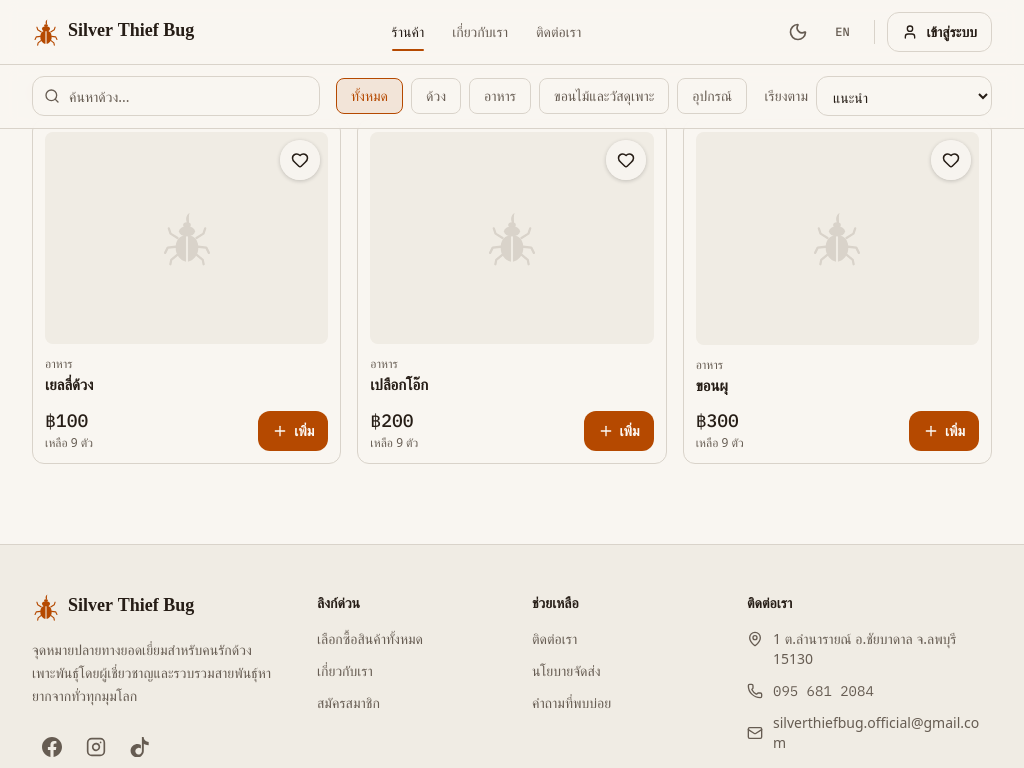
the product page lists every tier of its Promotion
(page scrolled)
Click the button "เยลลี่ด้วง" at [69, 385], box [45,374,94,395]
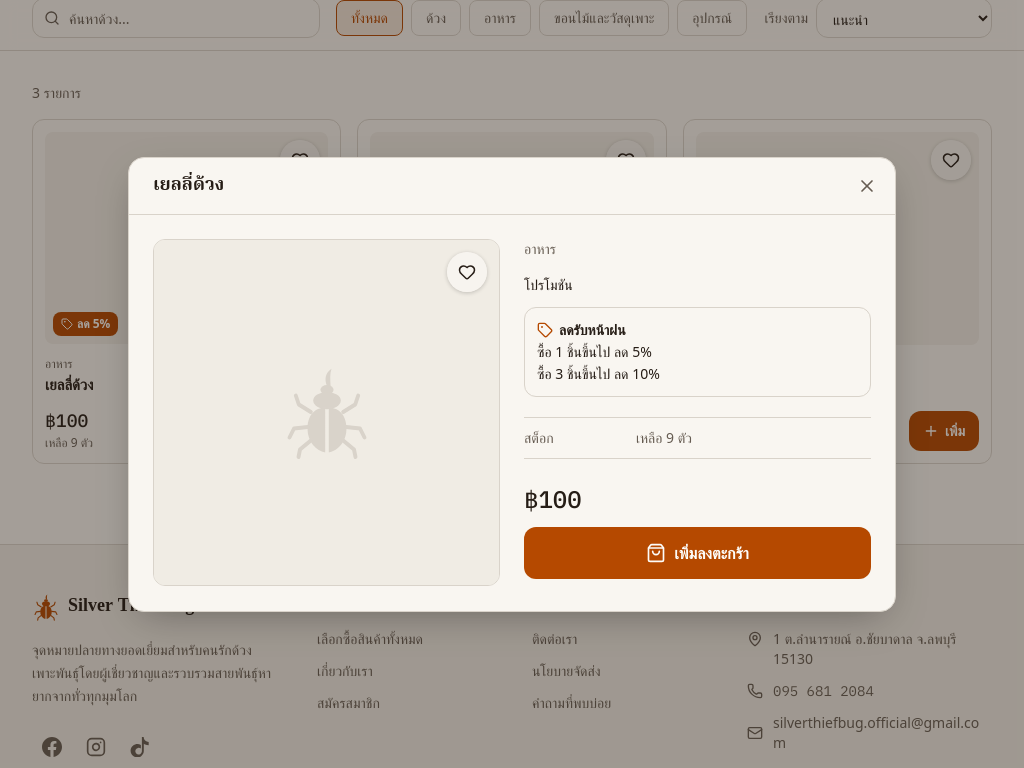
Expected: the text "ลดรับหน้าฝน" is shown, [559,320,626,340]
Expected: the list item "ซื้อ 1 ชิ้นขึ้นไป ลด 5%" is shown, [537,342,652,360]
Expected: the list item "ซื้อ 3 ชิ้นขึ้นไป ลด 10%" is shown, [537,364,660,382]
